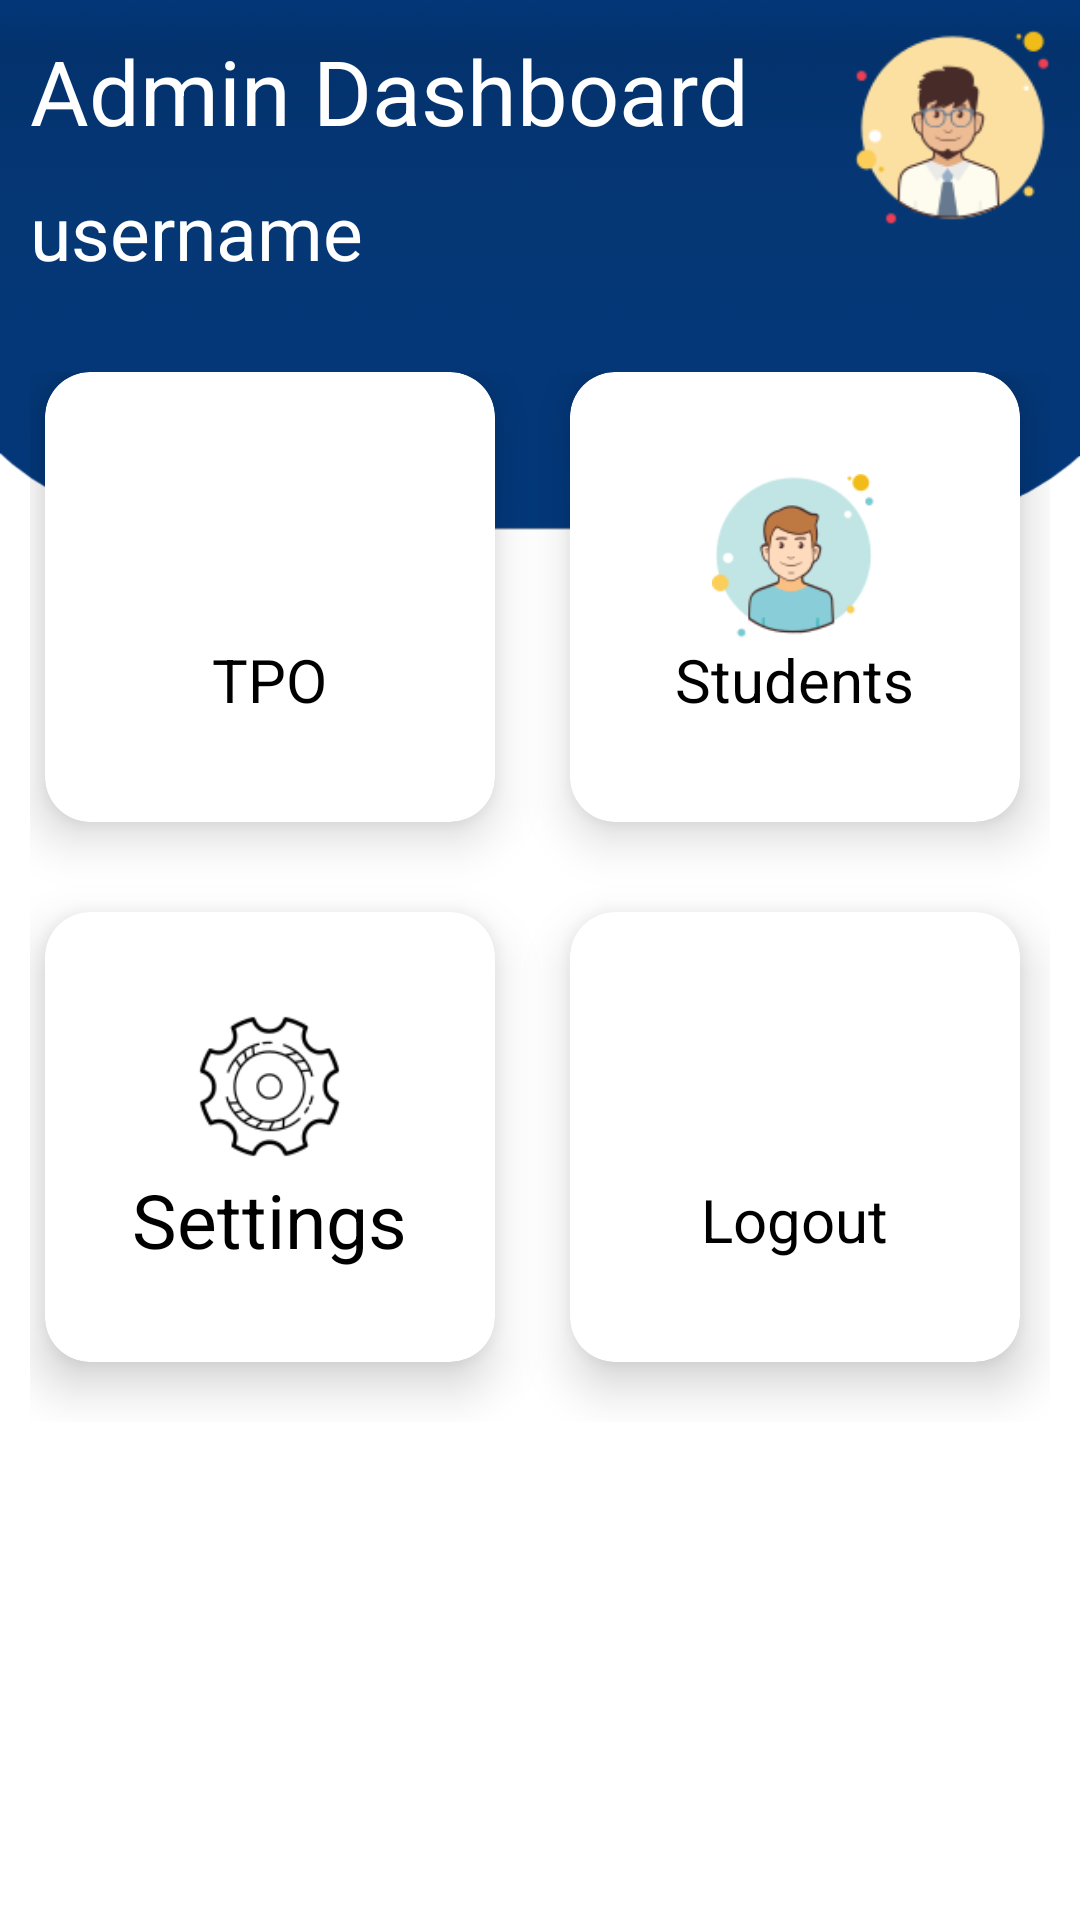

Icons on this 1080*1920 Android screen, each with the point to tap as (x,y):
user: (793,555)
